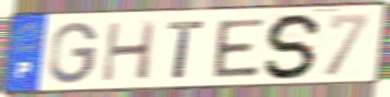7: (327, 11, 372, 78)
E: (212, 16, 267, 80)
G: (47, 20, 101, 86)
H: (99, 19, 159, 84)
S: (262, 11, 327, 81)
T: (165, 18, 207, 81)
